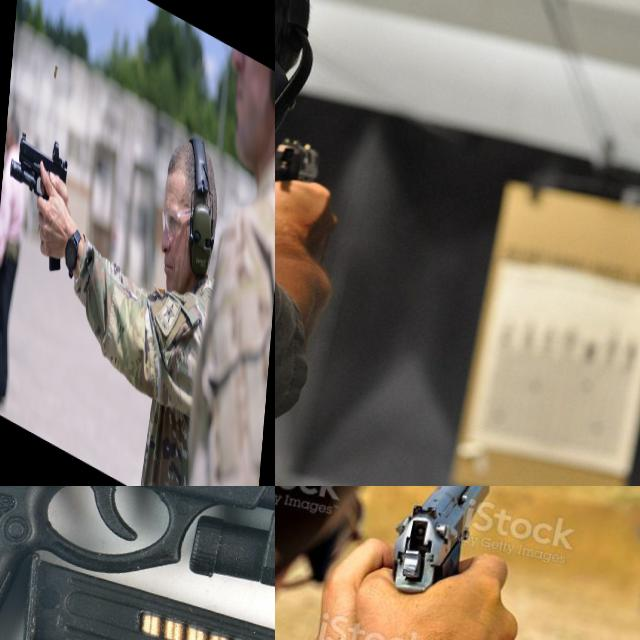handgun: (0, 486, 275, 640), (377, 486, 504, 615), (2, 113, 72, 280), (275, 125, 335, 210)
